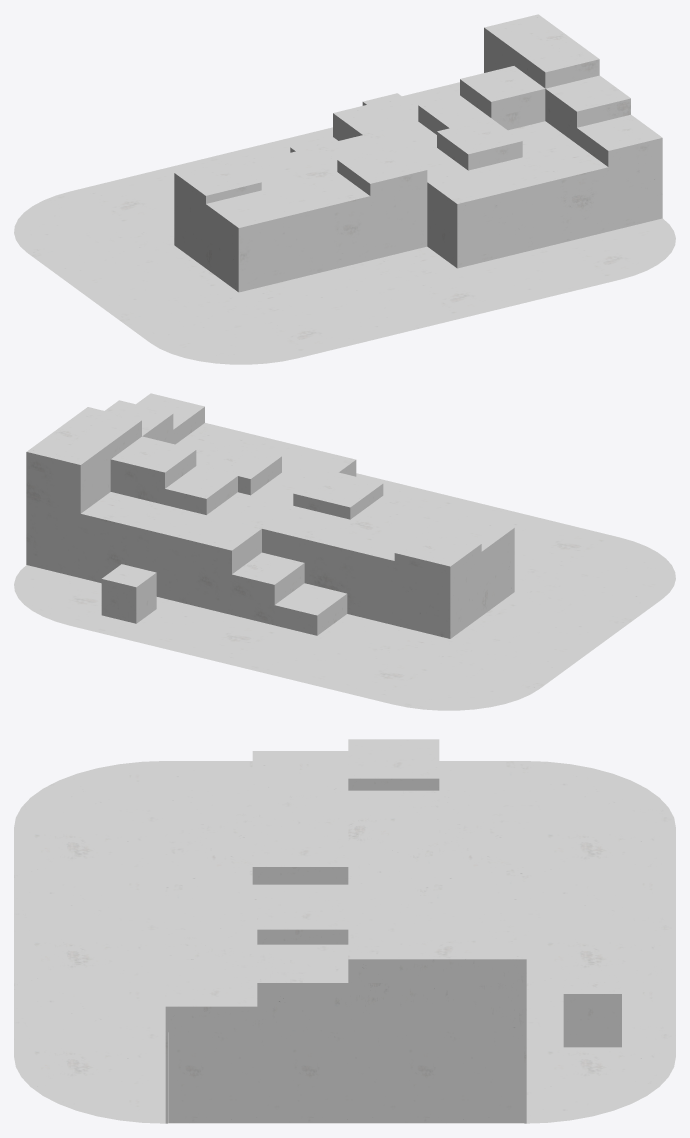
File: m6-rmx1.glb
The picture shows the model from 3 angles, top to bottom: view 1: azimuth 30°, elevation 25°; view 2: azimuth 150°, elevation 25°; view 3: azimuth 270°, elevation 25°; orthographic projection. The views are drawn at different scales.
Visible parts, largest first — view 1: Mesh_0.002; view 2: Mesh_0.002; view 3: Mesh_0.002.
Part boxes in pixels (bbox=[...]): Mesh_0.002: bbox=[14, 14, 675, 364]; Mesh_0.002: bbox=[14, 393, 675, 710]; Mesh_0.002: bbox=[14, 739, 675, 1123].
Size of the model in its own units: 6.6 by 1.39 by 5.09.
1 material, 1 textured.
